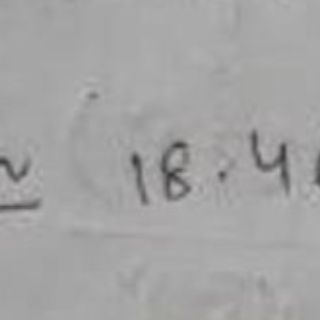.: (214, 167, 228, 184)
1: (123, 147, 153, 207)
4: (248, 124, 297, 201)
8: (158, 138, 195, 204)
